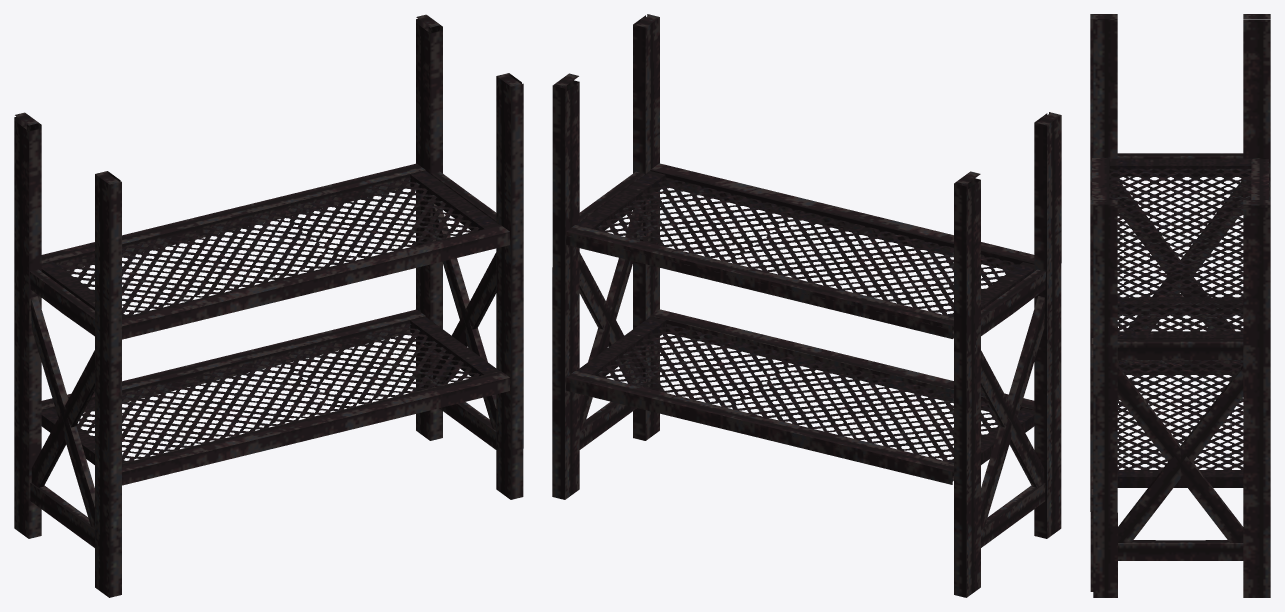
The model's file is SM_EC_BarnShelf_5.fbx.
The picture shows the model from 3 angles, left to right: view 1: azimuth 30°, elevation 25°; view 2: azimuth 150°, elevation 25°; view 3: azimuth 270°, elevation 25°; orthographic projection. The views are drawn at different scales.
Parts seen in each view (by area): view 1: SM_EC_BarnShelf_5; view 2: SM_EC_BarnShelf_5; view 3: SM_EC_BarnShelf_5.
Boxes of the visible parts, <box> form: SM_EC_BarnShelf_5: <box>14,14,523,597</box>; SM_EC_BarnShelf_5: <box>552,14,1061,597</box>; SM_EC_BarnShelf_5: <box>1090,14,1270,597</box>.
Size of the model in its own units: 3.27 by 1.3 by 3.12.
